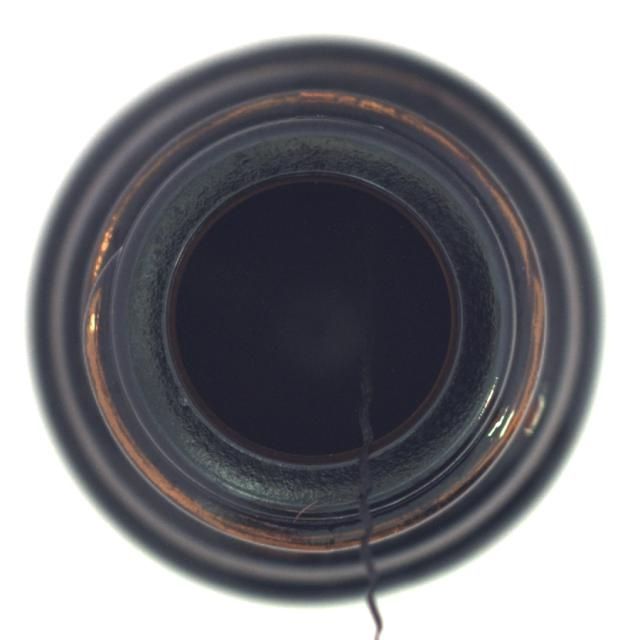bad-contamination: (26, 33, 605, 609)
